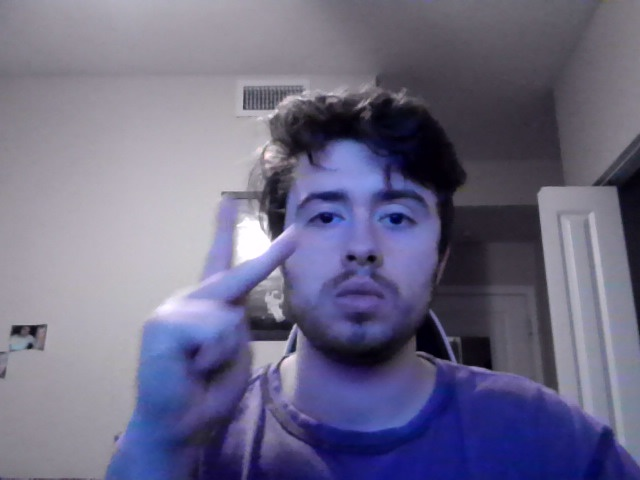k: (135, 194, 300, 453)
